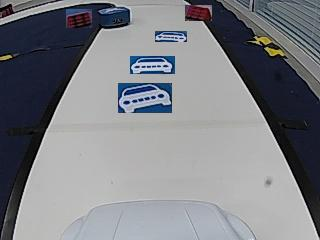prop: (99, 6, 130, 29)
